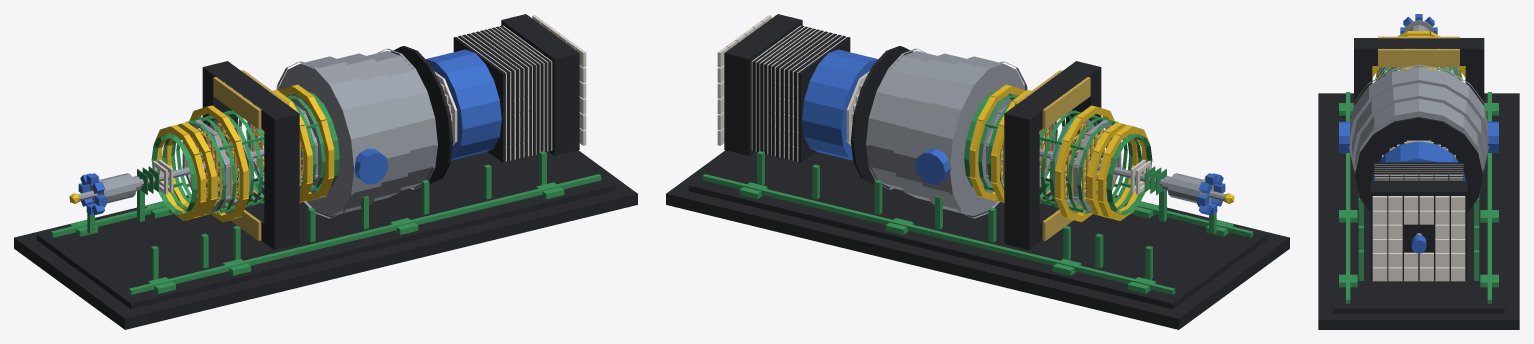
File: detector_scene_mobile.glb
3 views of the same model, side by side, from view 1: azimuth 30°, elevation 25°; view 2: azimuth 150°, elevation 25°; view 3: azimuth 270°, elevation 25° (orthographic). The views are drawn at different scales.
Visible parts, largest first — view 1: PROP_plinth, PROP_na62_rich, PROP_na62_muv_slabs, PROP_na62_magnet, PROP_support_frame, PROP_na62_lav_rings, PROP_na62_lkr, PROP_na62_decay_tank, PROP_na62_ktag, PROP_na62_straw_chamber_0, PROP_na62_muv3, PROP_na62_straw_chamber_1 (+3 smaller); view 2: PROP_plinth, PROP_na62_rich, PROP_na62_muv_slabs, PROP_na62_magnet, PROP_support_frame, PROP_na62_lav_rings, PROP_na62_decay_tank, PROP_na62_lkr, PROP_na62_ktag, PROP_na62_straw_chamber_0, PROP_na62_muv3, PROP_na62_straw_chamber_1 (+3 smaller); view 3: PROP_plinth, PROP_na62_rich, PROP_na62_muv3, PROP_na62_muv_slabs, PROP_na62_magnet, PROP_support_frame, PROP_na62_lkr, PROP_na62_ktag, PROP_na62_lav_rings, PROP_na62_sac, PROP_na62_decay_tank.
Part boxes in pixels (bbox=[...]): PROP_plinth: bbox=[14, 150, 637, 329]; PROP_na62_rich: bbox=[276, 46, 453, 218]; PROP_na62_muv_slabs: bbox=[453, 14, 579, 162]; PROP_na62_magnet: bbox=[202, 61, 299, 249]; PROP_support_frame: bbox=[50, 151, 601, 294]; PROP_na62_lav_rings: bbox=[153, 84, 334, 222]; PROP_na62_lkr: bbox=[426, 49, 501, 160]; PROP_na62_decay_tank: bbox=[151, 91, 339, 214]; PROP_na62_ktag: bbox=[78, 173, 141, 215]; PROP_na62_straw_chamber_0: bbox=[182, 120, 230, 212]; PROP_na62_muv3: bbox=[532, 15, 586, 145]; PROP_na62_straw_chamber_1: bbox=[205, 119, 254, 205]; PROP_plinth: bbox=[666, 150, 1289, 329]; PROP_na62_rich: bbox=[850, 46, 1027, 218]; PROP_na62_muv_slabs: bbox=[724, 14, 850, 162]; PROP_na62_magnet: bbox=[1004, 61, 1101, 249]; PROP_support_frame: bbox=[702, 151, 1253, 294]; PROP_na62_lav_rings: bbox=[969, 84, 1150, 222]; PROP_na62_decay_tank: bbox=[964, 91, 1152, 214]; PROP_na62_lkr: bbox=[802, 49, 877, 160]; PROP_na62_ktag: bbox=[1162, 173, 1225, 215]; PROP_na62_straw_chamber_0: bbox=[1073, 120, 1121, 212]; PROP_na62_muv3: bbox=[717, 15, 771, 145]; PROP_na62_straw_chamber_1: bbox=[1049, 119, 1098, 205]; PROP_plinth: bbox=[1318, 93, 1519, 329]; PROP_na62_rich: bbox=[1339, 64, 1498, 212]; PROP_na62_muv3: bbox=[1372, 196, 1465, 281]; PROP_na62_muv_slabs: bbox=[1370, 162, 1467, 279]; PROP_na62_magnet: bbox=[1354, 36, 1484, 105]; PROP_support_frame: bbox=[1339, 92, 1498, 303]; PROP_na62_lkr: bbox=[1372, 141, 1465, 180]; PROP_na62_ktag: bbox=[1400, 14, 1437, 34]; PROP_na62_lav_rings: bbox=[1372, 31, 1465, 82]; PROP_na62_sac: bbox=[1411, 235, 1426, 253]; PROP_na62_decay_tank: bbox=[1374, 67, 1463, 81].
Size of what is drawn, in the model's own units: 14.4 by 4.35 by 5.4.
